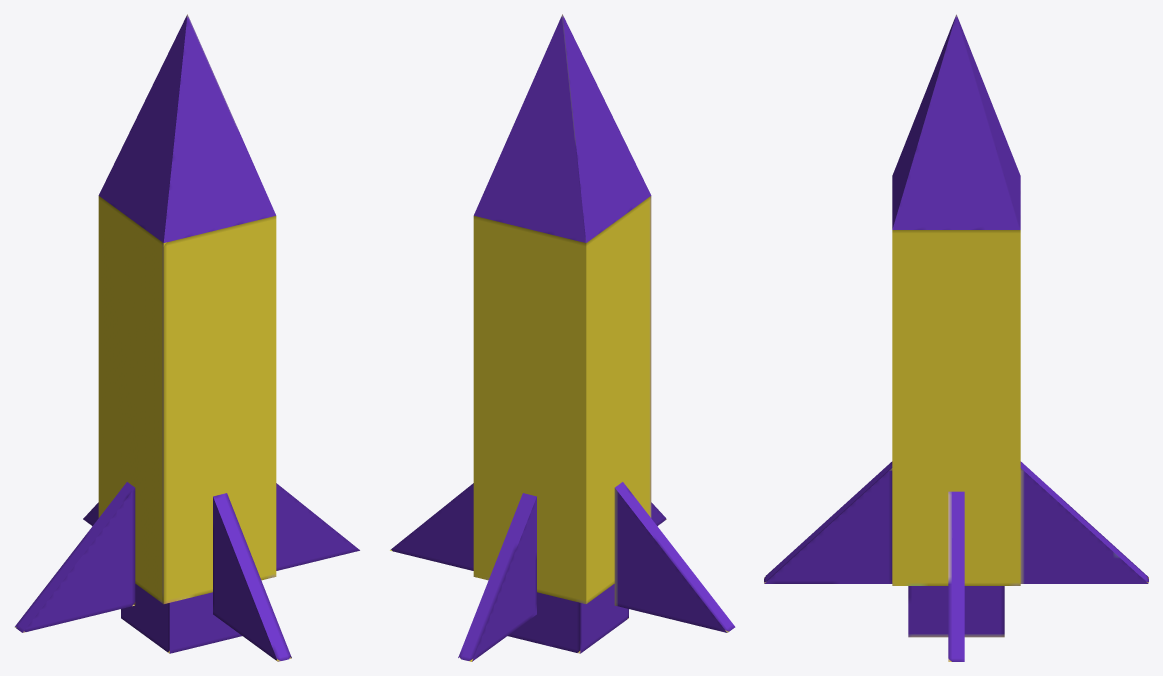
File: Rocket.fbx
The picture shows the model from 3 angles, left to right: view 1: azimuth 30°, elevation 25°; view 2: azimuth 150°, elevation 25°; view 3: azimuth 270°, elevation 25°; orthographic projection.
Parts seen in each view (by area): view 1: cuboid; view 2: cuboid; view 3: cuboid.
Part boxes in pixels (x1,y1,x2,y2): cuboid: (14,14,359,661); cuboid: (390,14,735,661); cuboid: (764,14,1148,661).
Size of the model in its own units: 300 by 519 by 300.
Materials: 1 (1 with a texture image).
